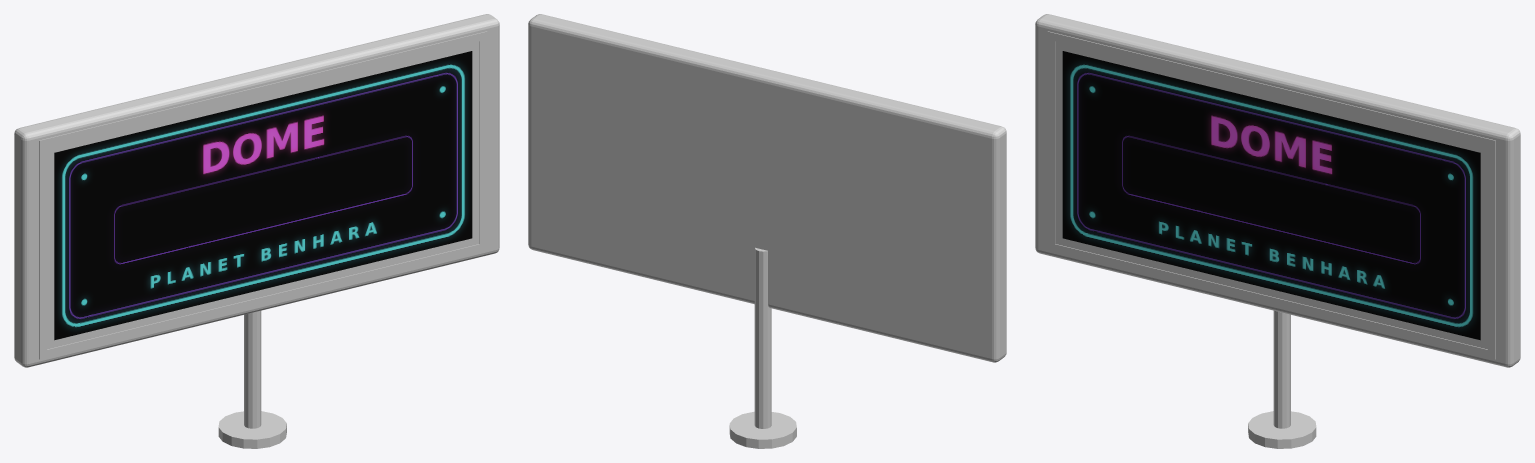
Rendered from SignPost.fbx.
The picture shows the model from 3 angles, left to right: view 1: azimuth 30°, elevation 25°; view 2: azimuth 150°, elevation 25°; view 3: azimuth 330°, elevation 25°; orthographic projection.
Parts seen in each view (by area): view 1: Screen, BackPlate, Fra me, Post, Foot; view 2: BackPlate, Post, Foot; view 3: Screen, BackPlate, Fra me, Post, Foot.
Boxes of the visible parts, x1,y1,x2,y2 form: Screen: [54, 51, 472, 340]; BackPlate: [14, 14, 499, 367]; Fra me: [39, 31, 487, 359]; Post: [244, 310, 261, 428]; Foot: [218, 411, 286, 448]; BackPlate: [528, 14, 1006, 362]; Post: [754, 247, 771, 428]; Foot: [729, 411, 796, 448]; Screen: [1062, 51, 1480, 340]; BackPlate: [1035, 14, 1520, 367]; Fra me: [1047, 31, 1495, 359]; Post: [1273, 310, 1290, 428]; Foot: [1248, 411, 1316, 448].
Size of the model in its own units: 320 by 233 by 40.
